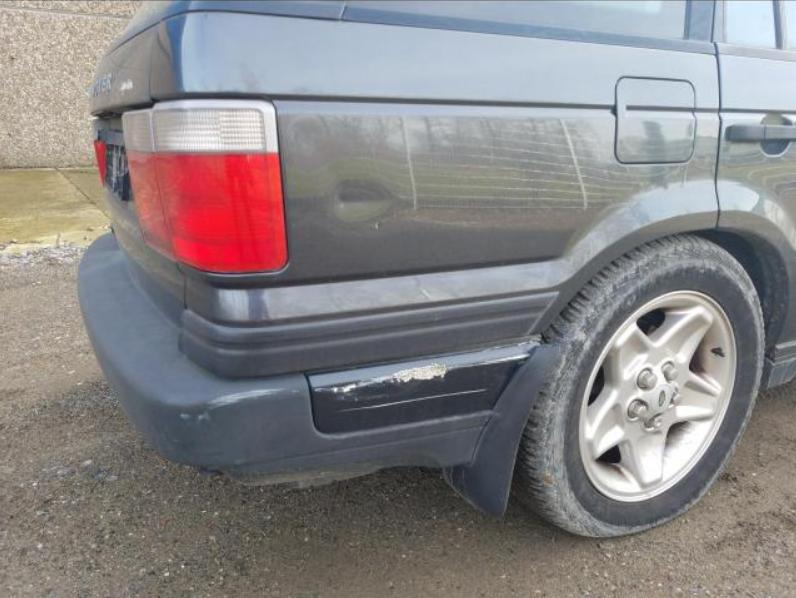Back-bumper: (76, 188, 545, 482)
Back-door: (714, 0, 795, 389)
Back-wheel: (511, 236, 767, 537)
Back-window: (346, 0, 685, 37), (722, 0, 795, 53)
License-plate: (105, 144, 124, 198)
Quarter-panel: (152, 0, 720, 380)
Tail-light: (124, 98, 288, 275)
Trunk: (93, 0, 166, 115)
